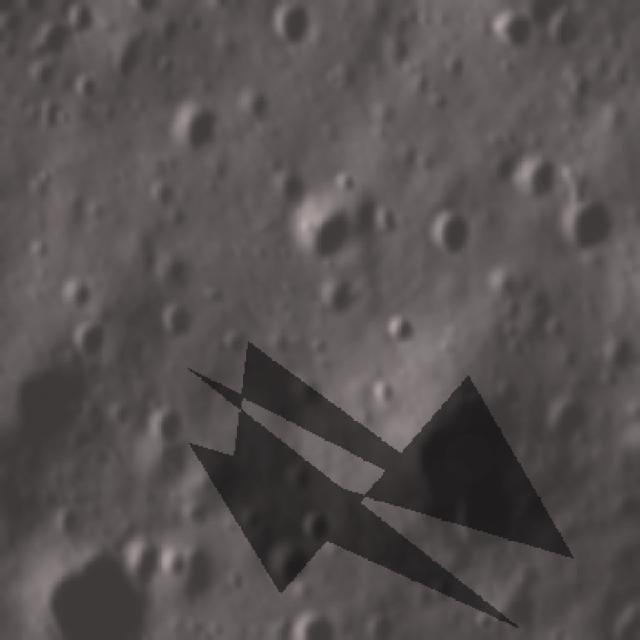crater: (36, 560, 150, 640), (296, 188, 341, 274), (557, 195, 609, 253), (495, 152, 557, 200), (167, 102, 224, 153), (261, 544, 305, 601), (433, 210, 473, 262), (294, 507, 340, 542), (288, 614, 341, 640), (498, 10, 531, 50), (159, 296, 190, 338), (542, 10, 580, 44), (64, 65, 94, 104), (382, 306, 413, 340), (68, 2, 99, 36), (60, 279, 97, 307), (462, 606, 498, 634), (79, 321, 106, 357), (281, 5, 307, 42), (37, 23, 66, 55), (287, 460, 315, 492), (369, 375, 396, 408), (128, 0, 170, 20), (155, 404, 179, 438), (0, 8, 17, 42), (31, 167, 55, 191), (305, 335, 327, 359), (498, 298, 520, 320), (28, 237, 49, 258), (19, 0, 46, 9)
